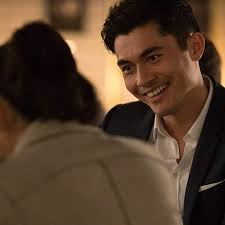asian_male: (97, 1, 211, 122)
